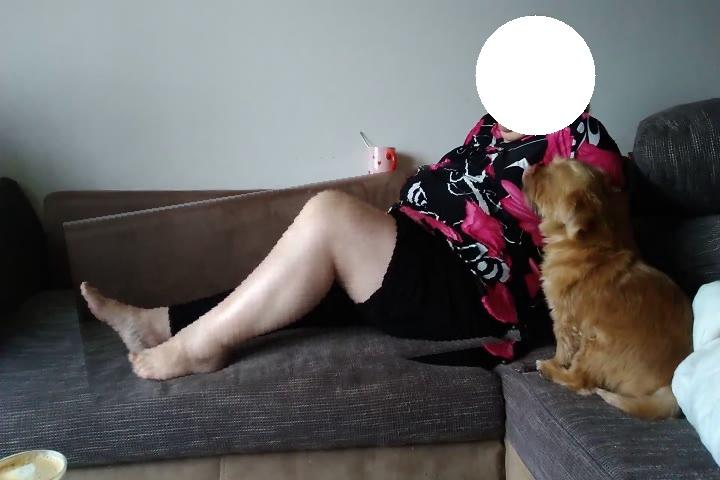lowerbody: (70, 173, 516, 393)
